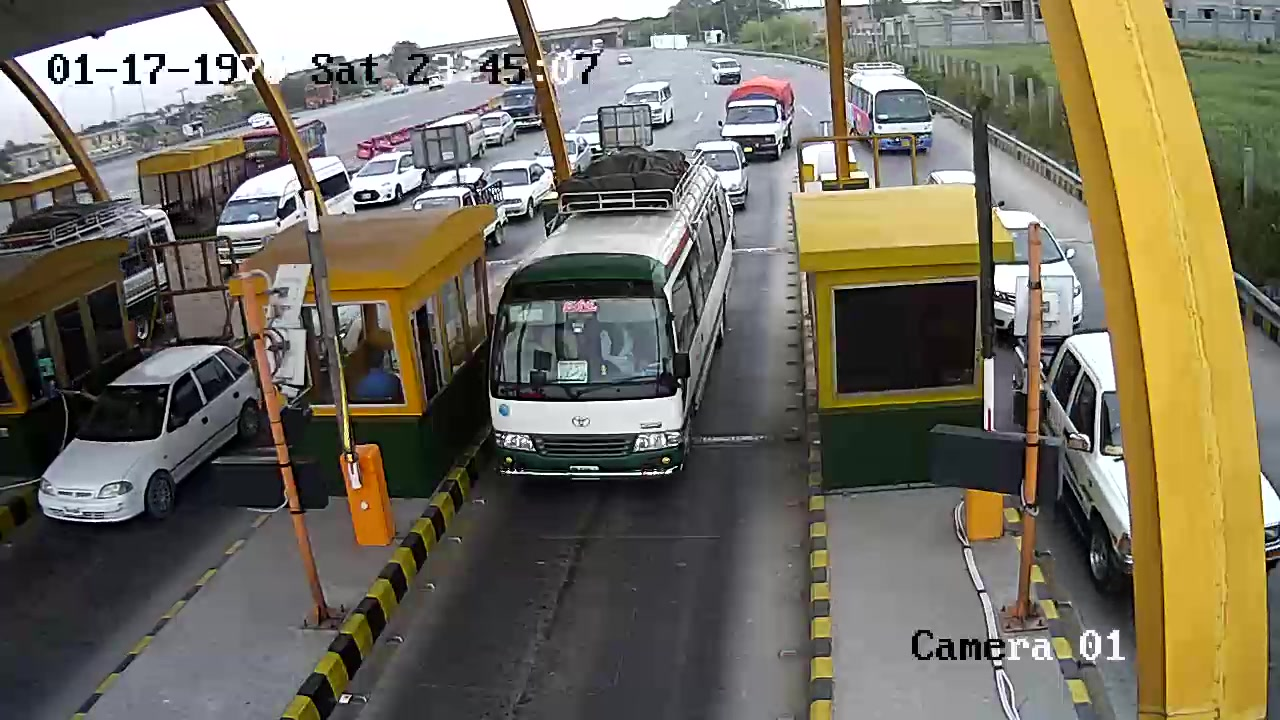F3: (483, 147, 752, 488)
